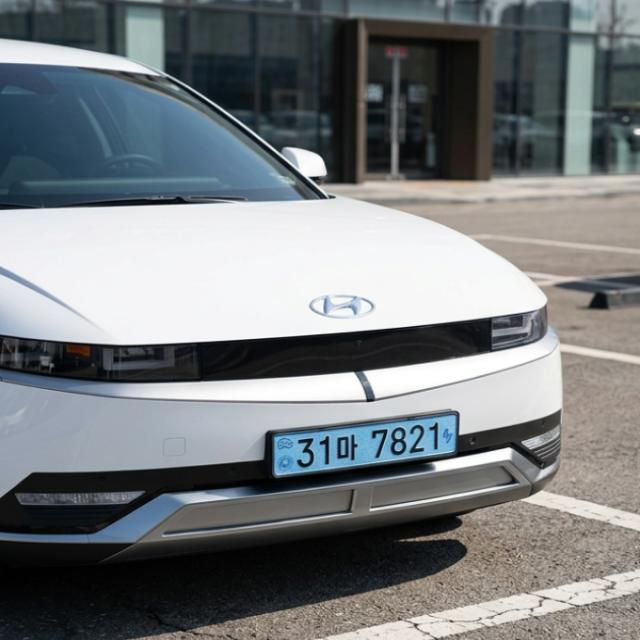car: (240, 406, 484, 494)
carev: (266, 425, 299, 483), (440, 409, 465, 466)
